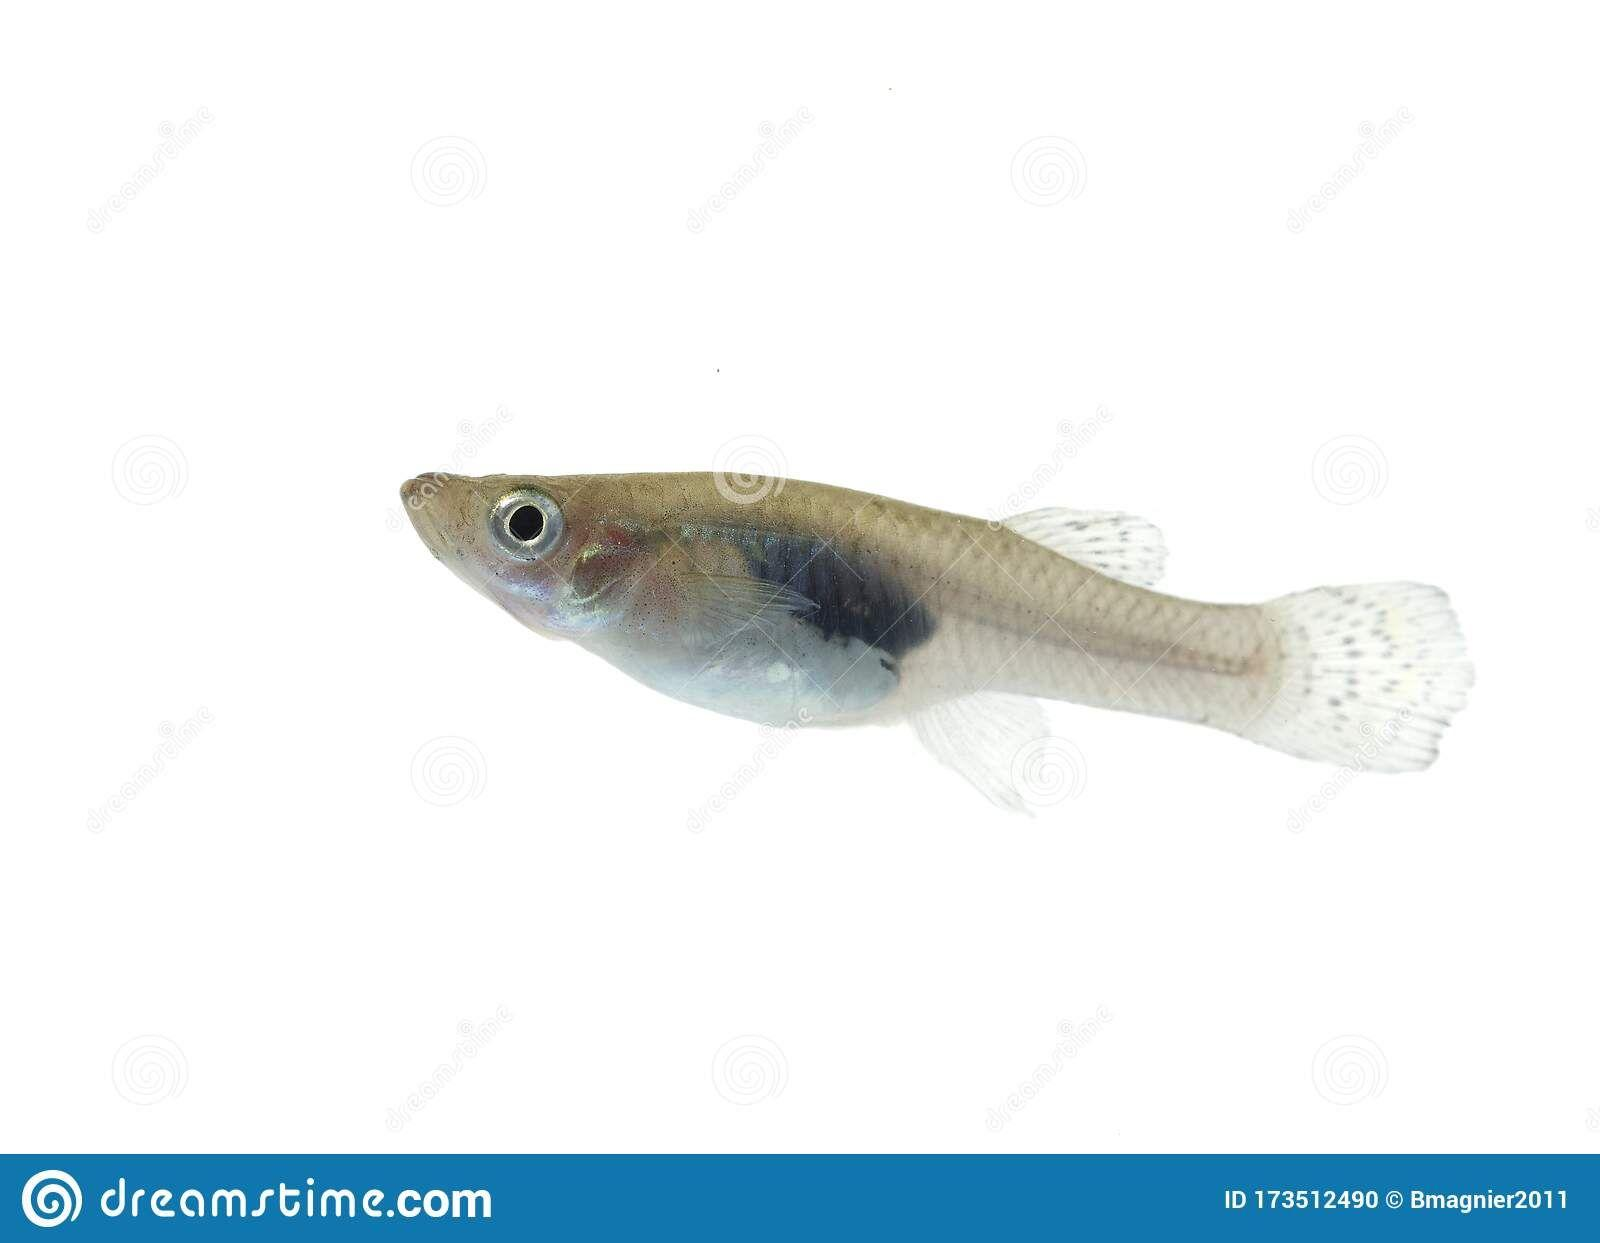Mosquito Fish: (388, 453, 1440, 830)
